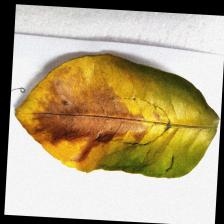black spot: (34, 80, 142, 152)
